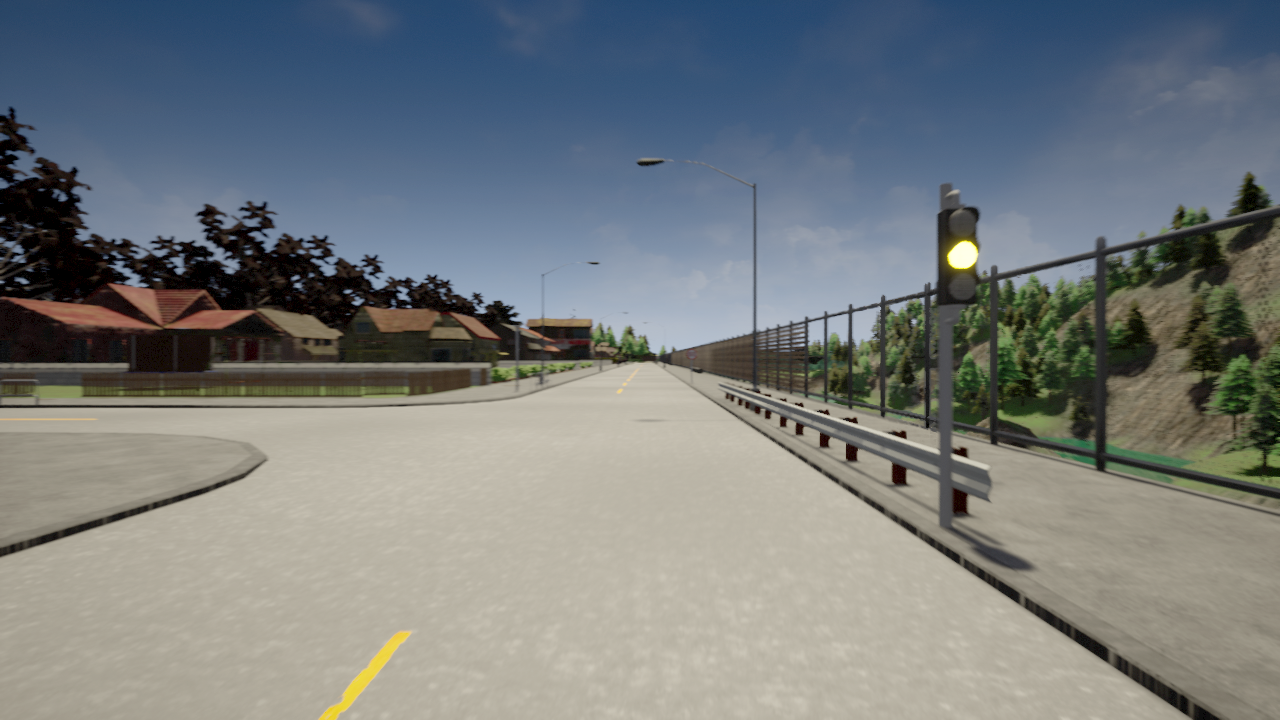yellow: (930, 205, 986, 303)
